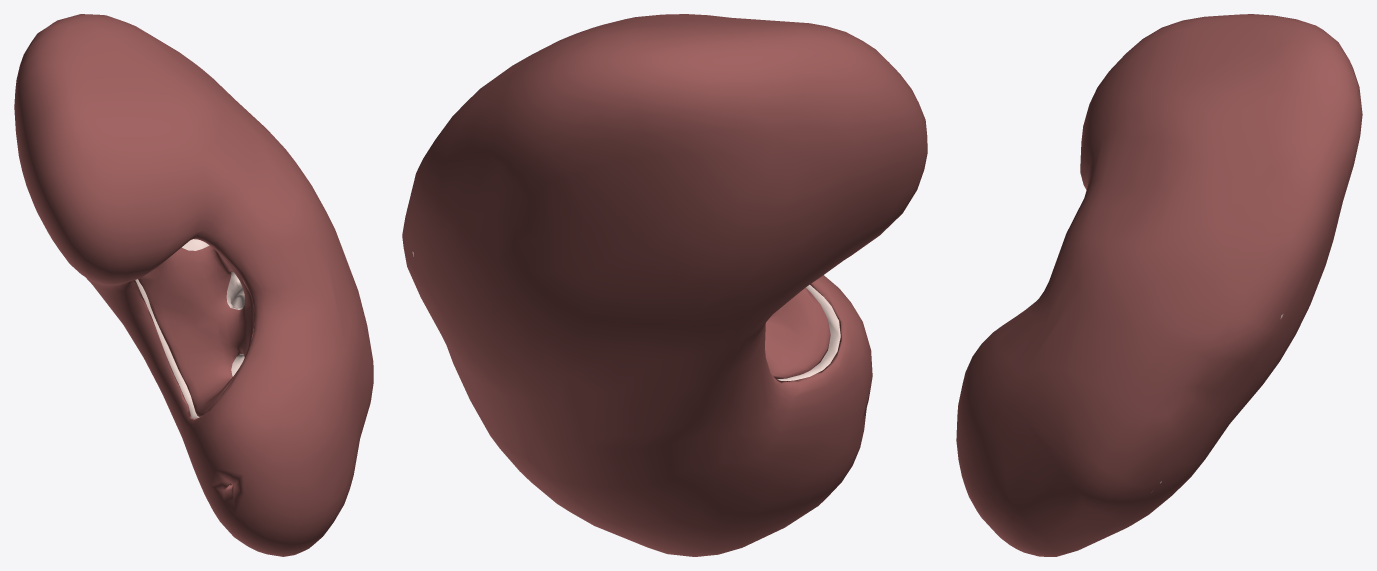
File: vh_m_kidney_l-40.glb
3 renders of one model, left to right at view 1: azimuth 30°, elevation 25°; view 2: azimuth 150°, elevation 25°; view 3: azimuth 270°, elevation 25°, orthographic. The views are drawn at different scales.
Parts seen in each view (by area): view 1: VH_M_kidney_capsule_L, VH_M_hilum_of_kidney_L, VH_M_renal_column_L, VH_M_outer_cortex_of_kidney_L; view 2: VH_M_kidney_capsule_L, VH_M_hilum_of_kidney_L, VH_M_outer_cortex_of_kidney_L; view 3: VH_M_kidney_capsule_L.
Boxes of the visible parts, x1,y1,x2,y2 form: VH_M_kidney_capsule_L: (14, 14, 373, 556); VH_M_hilum_of_kidney_L: (138, 238, 254, 417); VH_M_renal_column_L: (182, 239, 244, 376); VH_M_outer_cortex_of_kidney_L: (135, 279, 199, 418); VH_M_kidney_capsule_L: (402, 14, 927, 556); VH_M_hilum_of_kidney_L: (765, 288, 830, 379); VH_M_outer_cortex_of_kidney_L: (412, 251, 840, 380); VH_M_kidney_capsule_L: (956, 14, 1362, 556).
Size of the model in its own units: 0.0757 by 0.1065 by 0.0824.
